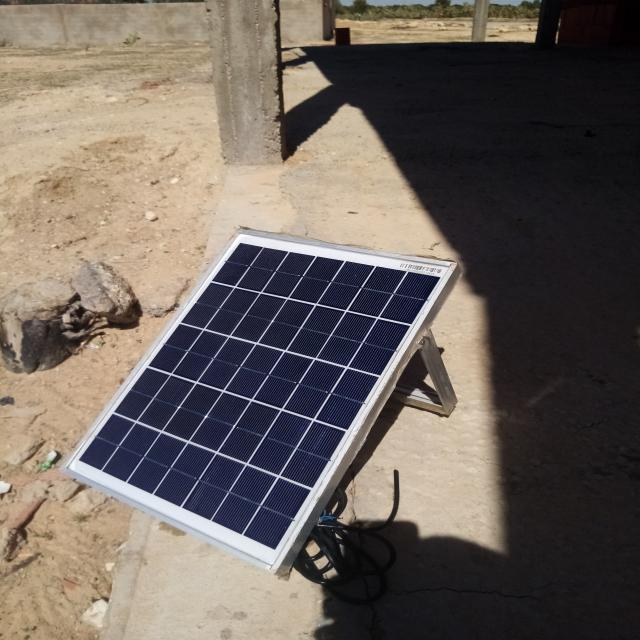no faulty: (64, 229, 455, 572)
